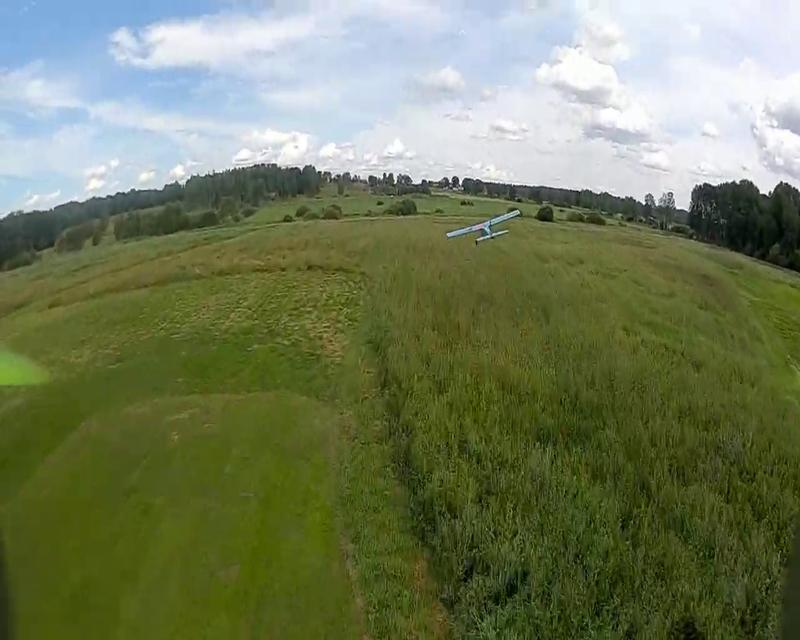UAV: (444, 207, 521, 246)
